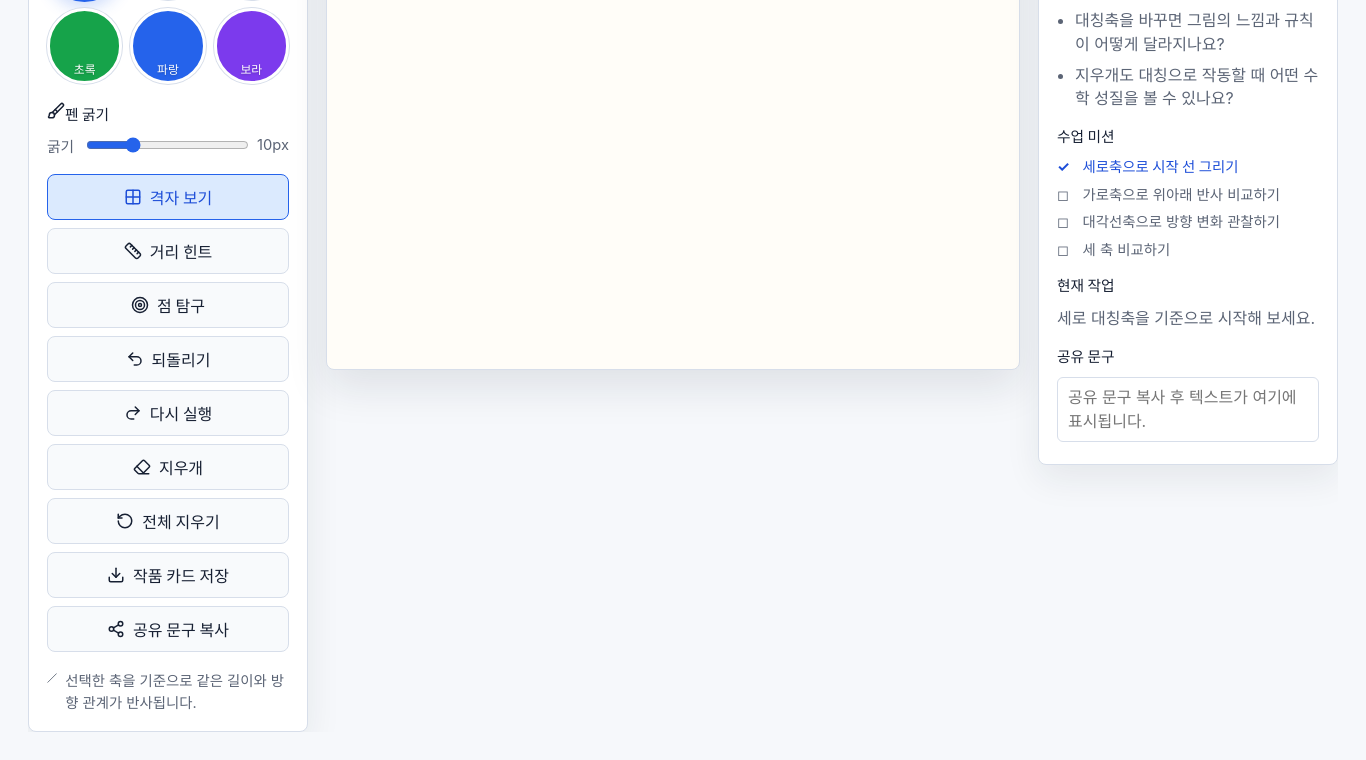
Test case: Symmetry Art Studio app shell › copies share text to clipboard and confirms in status messages
The image size is (1366, 760).
(page scrolled)
Click the button "공유 문구 복사" at (168, 629), box [47, 606, 289, 652]
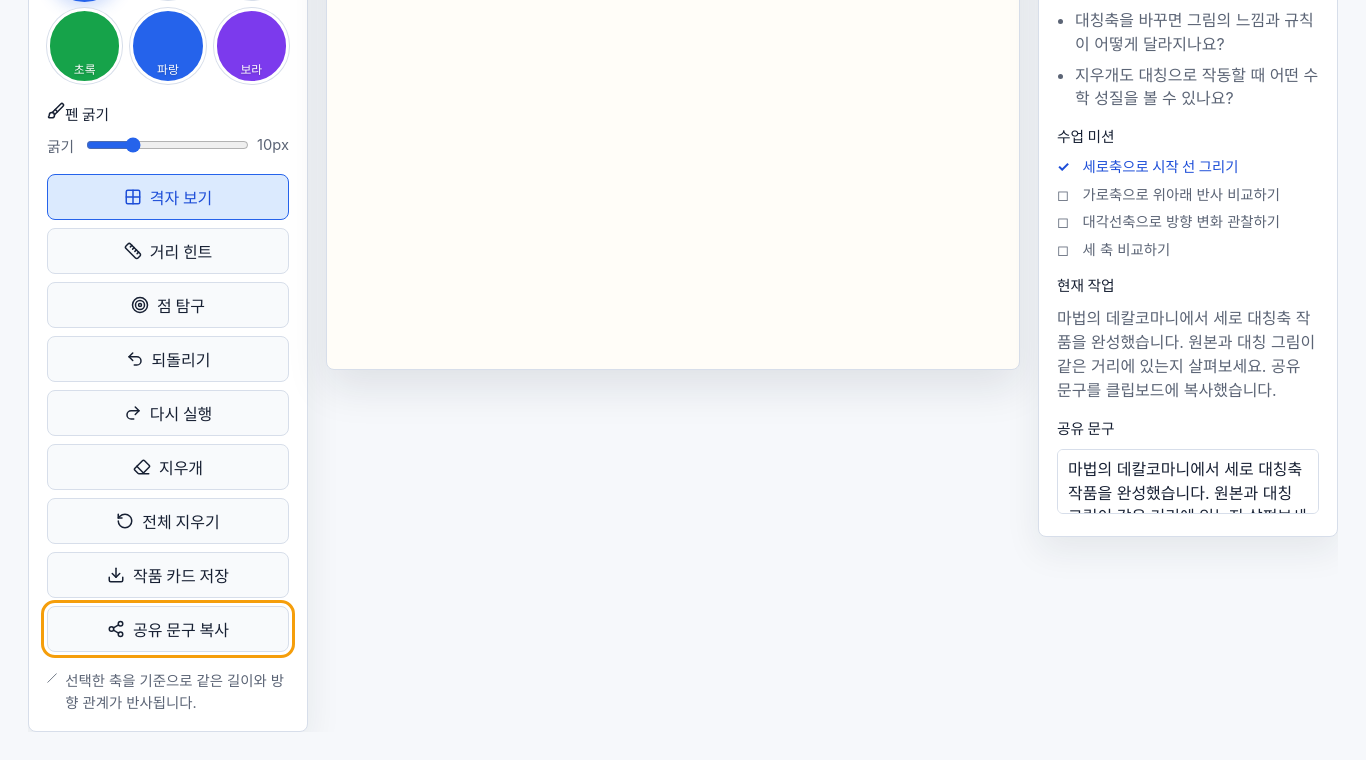
Check: the text box named "공유 문구" holds "마법의 데칼코마니에서 세로 대칭축 작품을 완성했습니다. 원본과 대칭 그림이 같은 거리에 있는지 살펴보세요.", box [1057, 449, 1319, 514]
